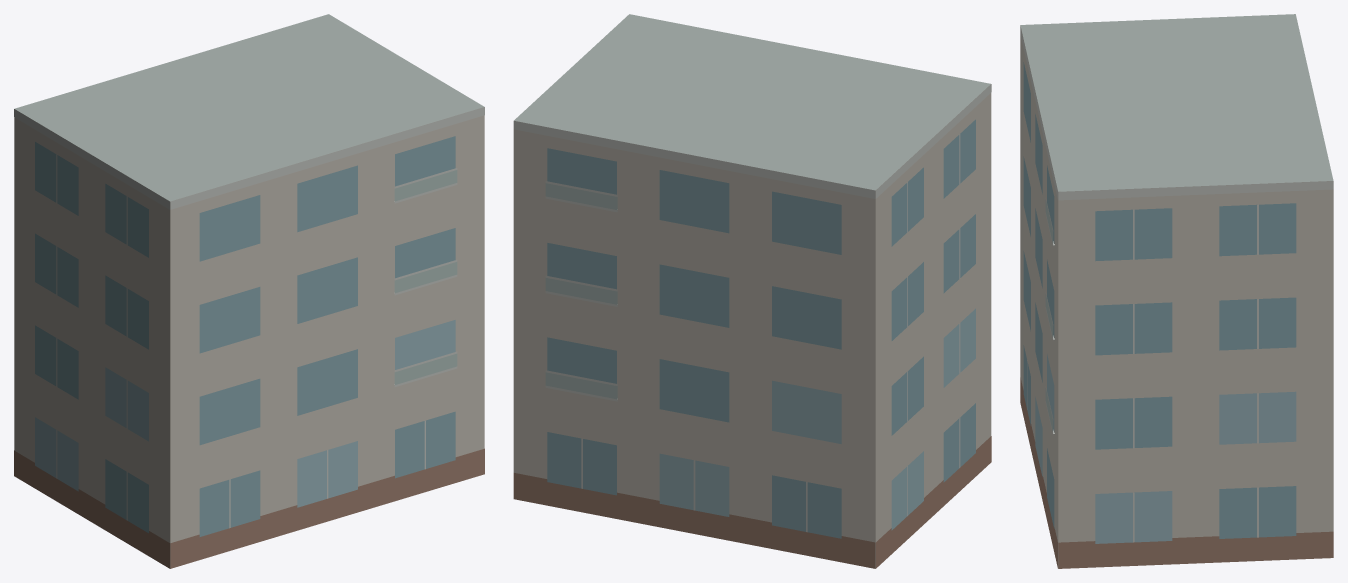
The model's file is survey-upis-32917196.glb.
3 renders of one model, left to right at view 1: azimuth 30°, elevation 25°; view 2: azimuth 150°, elevation 25°; view 3: azimuth 270°, elevation 25°, orthographic. The views are drawn at different scales.
Visible parts, largest first — view 1: survey-upis-32917196.tmp; view 2: survey-upis-32917196.tmp; view 3: survey-upis-32917196.tmp.
Boxes of the visible parts, x1,y1,x2,y2 form: survey-upis-32917196.tmp: (14,14,484,568); survey-upis-32917196.tmp: (513,14,991,568); survey-upis-32917196.tmp: (1020,14,1333,568).
Bounding box in the file's own units: 10.83 × 10.7 × 8.07.
